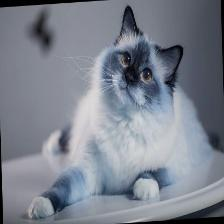kedo: (27, 5, 184, 218)
